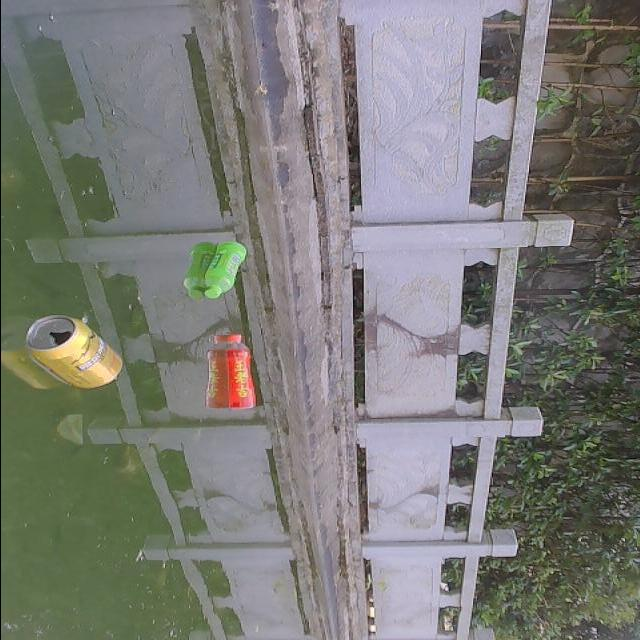Bottle: (196, 239, 249, 300), (217, 333, 255, 414)
Can: (25, 313, 123, 391)
